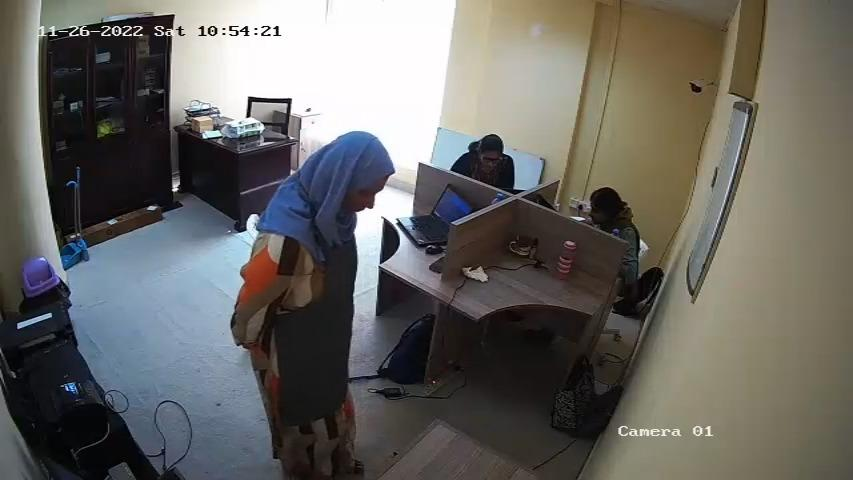apron: (265, 215, 362, 425)
